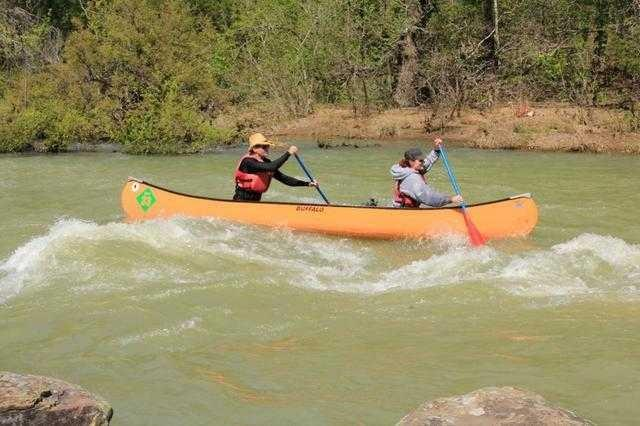kayak: (121, 176, 539, 244)
